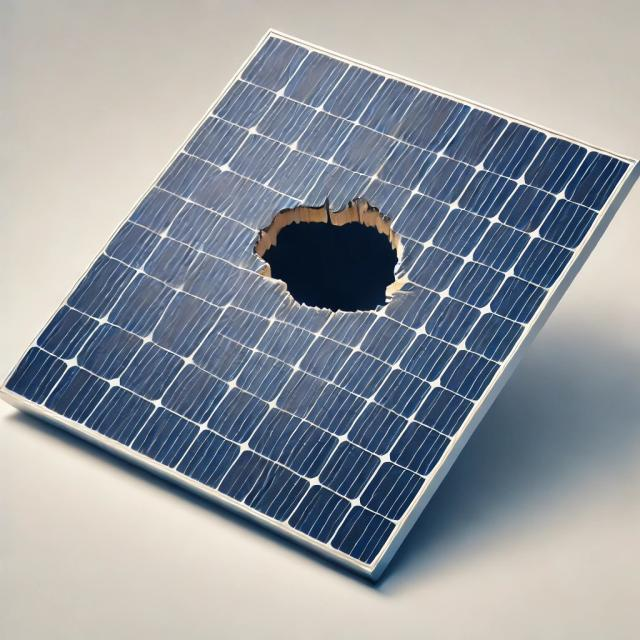Anomaly Solar Panel: (0, 33, 637, 570)
Structural Damage: (249, 195, 409, 313)
